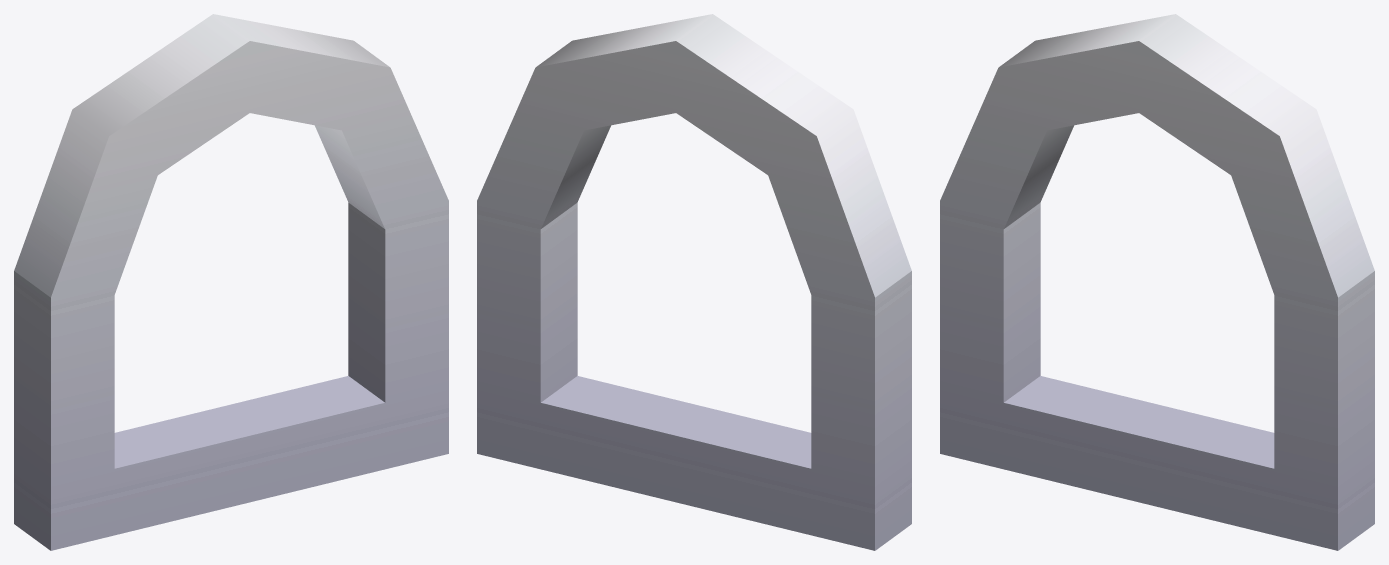
Rendered from window-white-round-low.glb.
3 views of the same model, side by side, from view 1: azimuth 30°, elevation 25°; view 2: azimuth 150°, elevation 25°; view 3: azimuth 330°, elevation 25° (orthographic).
Parts seen in each view (by area): view 1: window-white-round-low; view 2: window-white-round-low; view 3: window-white-round-low.
Part boxes in pixels (bbox=[...]): window-white-round-low: bbox=[14, 14, 448, 550]; window-white-round-low: bbox=[477, 14, 911, 550]; window-white-round-low: bbox=[940, 14, 1374, 550].
Size of the model in its own units: 0.3125 by 0.3462 by 0.05.
1 material, 1 textured.
